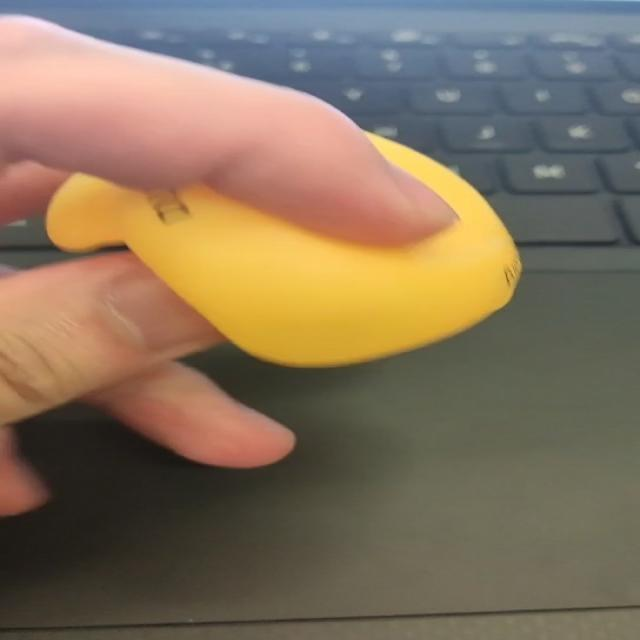rubber-duck: (46, 132, 520, 364)
